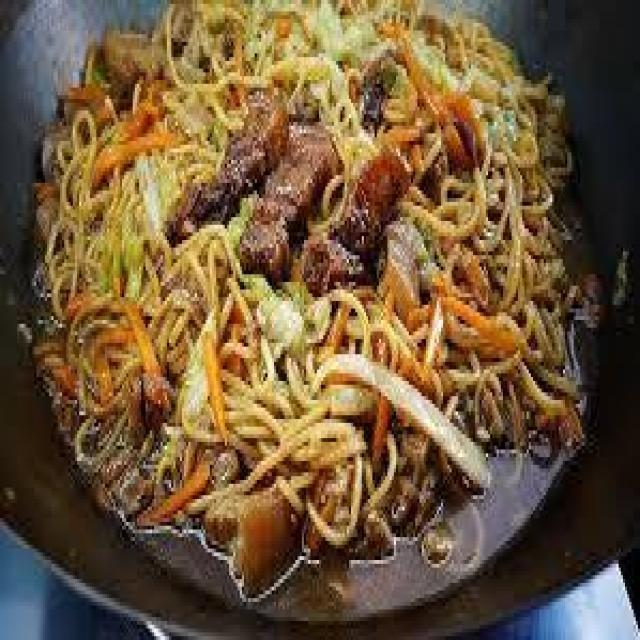pancit bihon: (30, 48, 580, 558)
